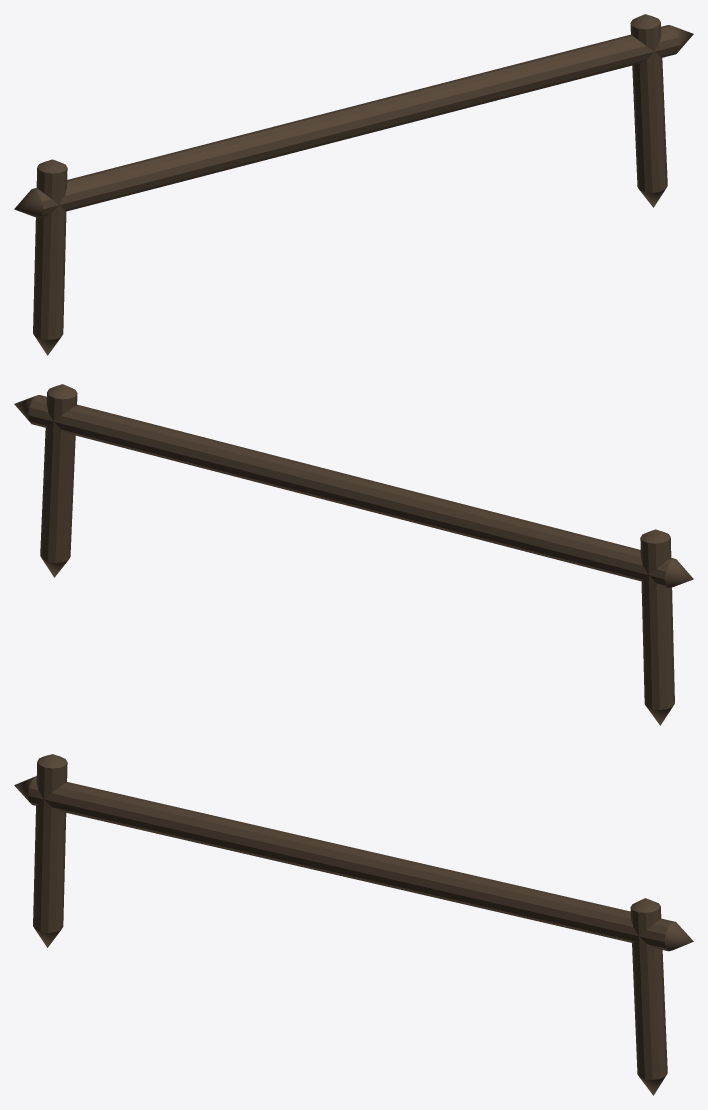
The model's file is Fence.fbx.
3 renders of one model, top to bottom at view 1: azimuth 30°, elevation 25°; view 2: azimuth 150°, elevation 25°; view 3: azimuth 330°, elevation 25°, orthographic.
Parts seen in each view (by area): view 1: Fence; view 2: Fence; view 3: Fence.
Boxes of the visible parts, <box> form: Fence: <box>14,14,693,355</box>; Fence: <box>14,384,693,725</box>; Fence: <box>14,754,693,1095</box>.
Bounding box in the file's own units: 24.81 × 6.83 × 0.9602.
